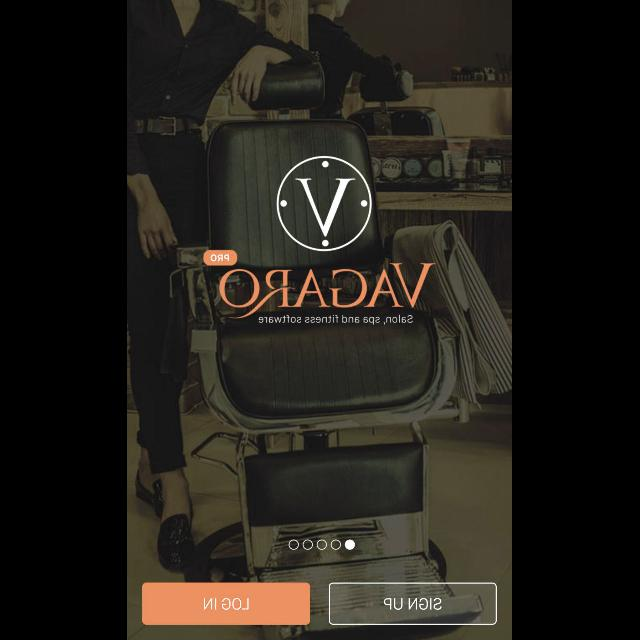backgroundimage: (128, 2, 512, 640)
image: (204, 153, 436, 324)
pageindicator: (288, 539, 356, 551)
textbutton: (329, 582, 497, 626), (143, 583, 311, 625)
